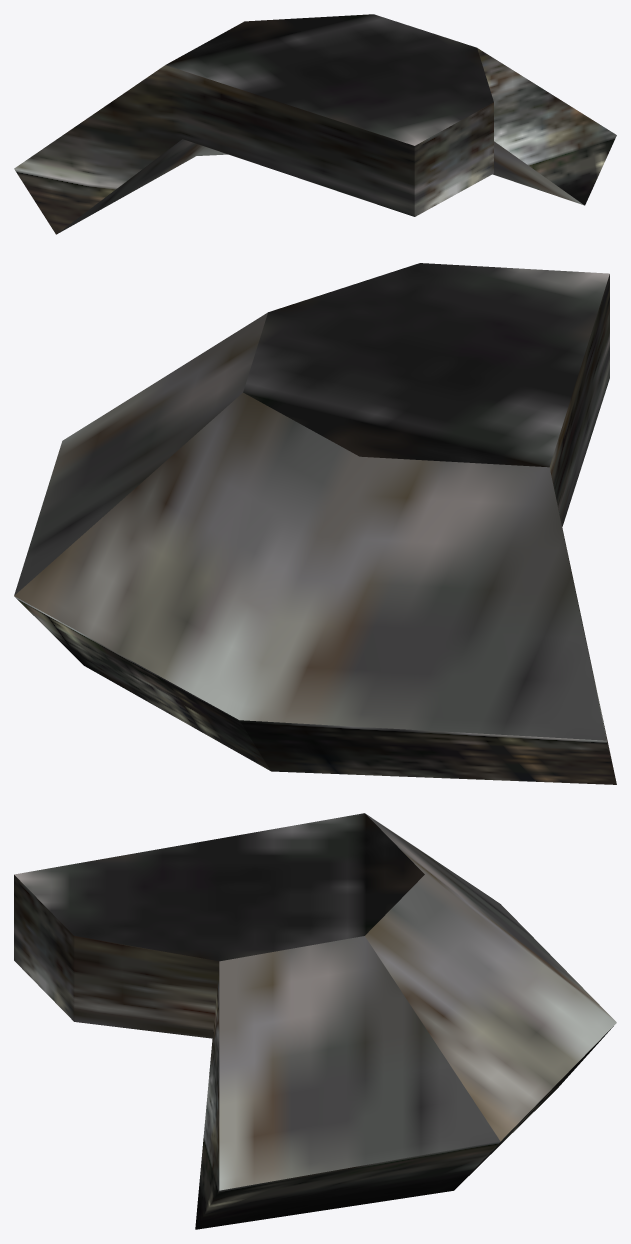
The model's file is USA - Base Infrastructure - Power Plant - Damage State 29 - ABPWRPLANT_d29.glb.
3 renders of one model, top to bottom at view 1: azimuth 30°, elevation 25°; view 2: azimuth 150°, elevation 25°; view 3: azimuth 270°, elevation 25°, orthographic. The views are drawn at different scales.
Parts seen in each view (by area): view 1: ABPWRPLANT_D29; view 2: ABPWRPLANT_D29; view 3: ABPWRPLANT_D29.
Part boxes in pixels (box(x1,y1,x2,y2)): ABPWRPLANT_D29: box(14, 14, 616, 234); ABPWRPLANT_D29: box(14, 263, 616, 784); ABPWRPLANT_D29: box(14, 813, 616, 1229).
Size of the model in its own units: 8.79 by 3.04 by 7.81.
Materials: 1 (1 with a texture image).
